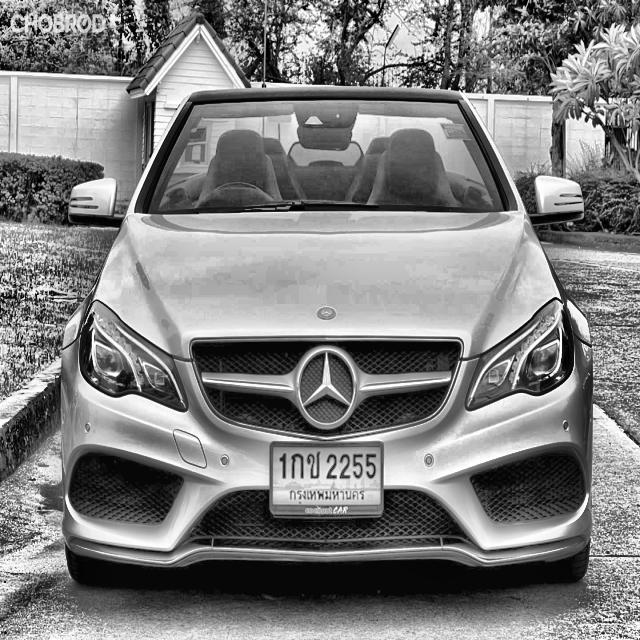license-plate: (268, 439, 385, 516)
